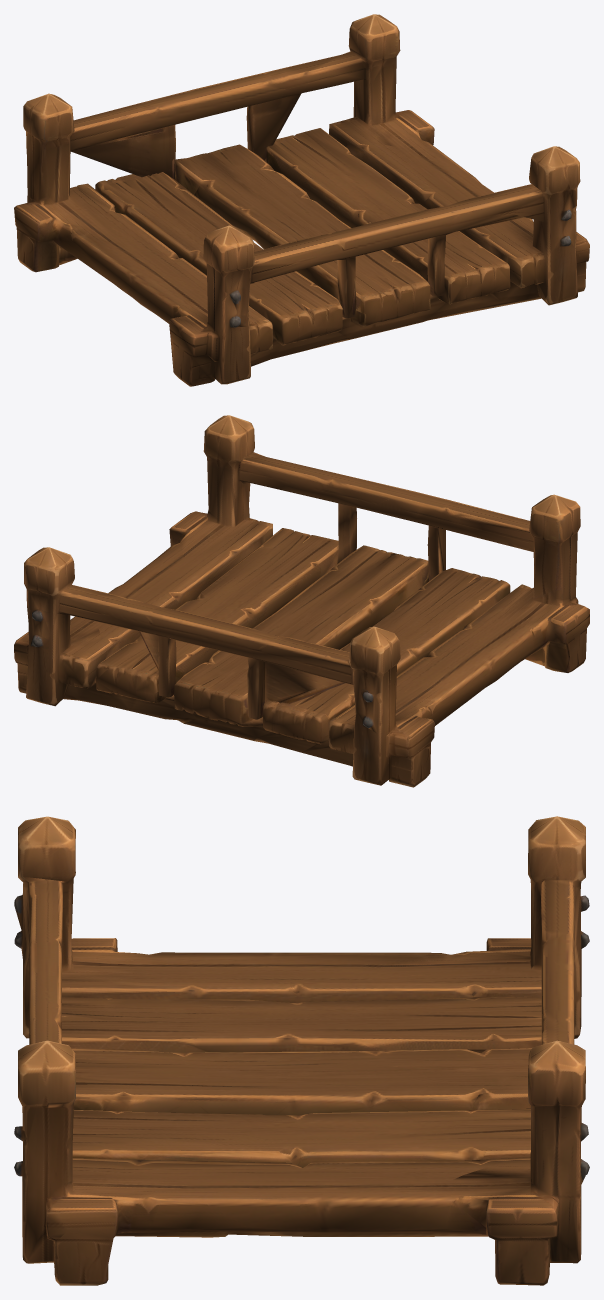
The model's file is Meshy_AI_Wooden_Plank_Bridge_0528100753_texture.fbx.
3 views of the same model, one above another, from view 1: azimuth 30°, elevation 25°; view 2: azimuth 150°, elevation 25°; view 3: azimuth 270°, elevation 25° (orthographic). The views are drawn at different scales.
Parts seen in each view (by area): view 1: Mesh_0; view 2: Mesh_0; view 3: Mesh_0.
Boxes of the visible parts, left/top/right/bottom form: Mesh_0: left=14, top=14, right=589, bottom=386; Mesh_0: left=14, top=415, right=589, bottom=787; Mesh_0: left=14, top=816, right=589, bottom=1285.
Bounding box in the file's own units: 265 × 100 × 236.
Materials: 1 (1 with a texture image).
